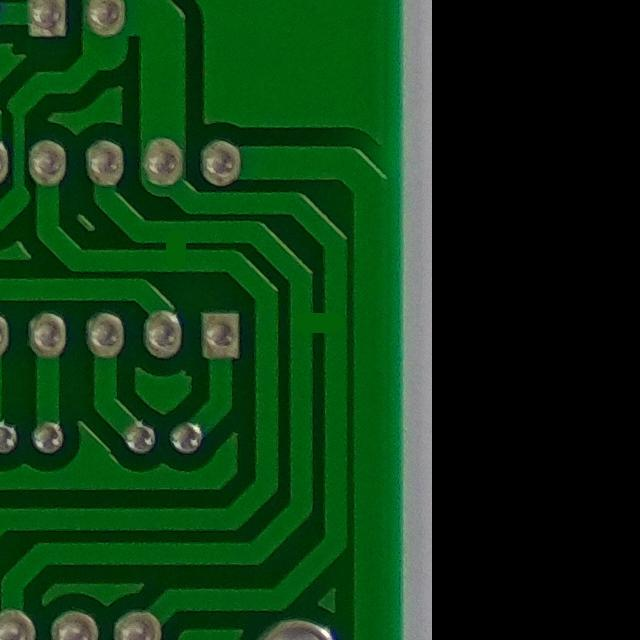short: (287, 287, 354, 354)
